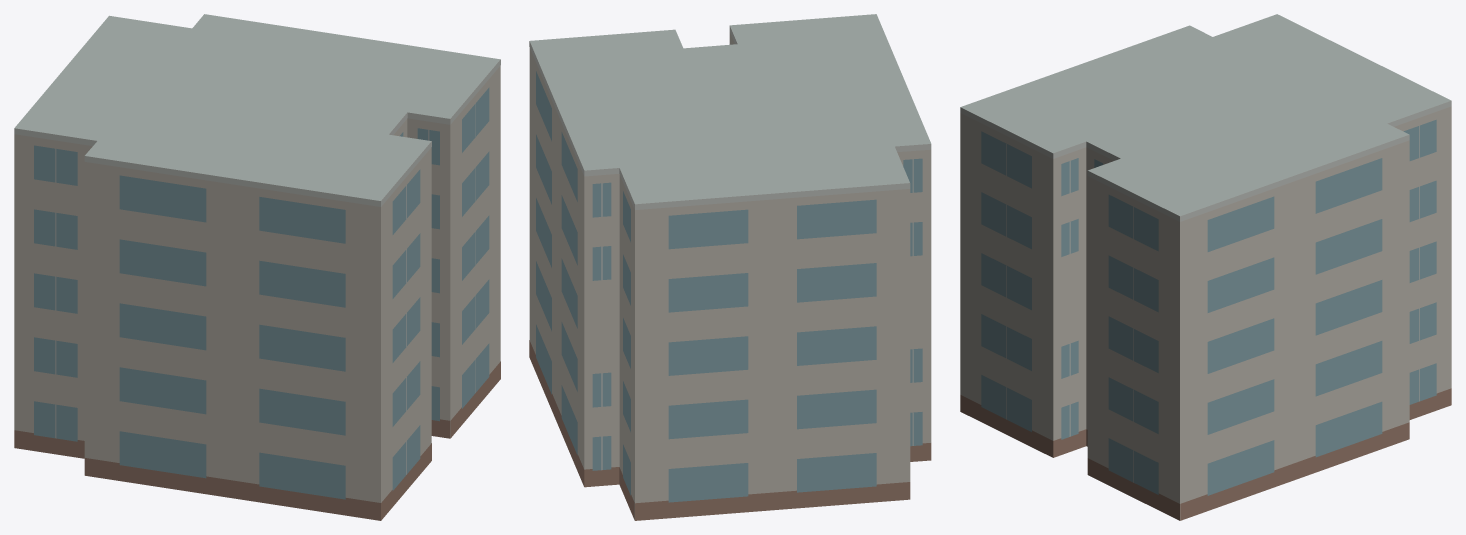
Rendered from survey-upis-32715262.glb.
3 renders of one model, left to right at view 1: azimuth 30°, elevation 25°; view 2: azimuth 150°, elevation 25°; view 3: azimuth 270°, elevation 25°, orthographic. The views are drawn at different scales.
Visible parts, largest first — view 1: survey-upis-32715262.tmp; view 2: survey-upis-32715262.tmp; view 3: survey-upis-32715262.tmp.
Boxes of the visible parts, box(x1,y1,x2,y2) form: survey-upis-32715262.tmp: box(14, 14, 500, 520); survey-upis-32715262.tmp: box(529, 14, 931, 520); survey-upis-32715262.tmp: box(960, 14, 1451, 520).
Size of the model in its own units: 18.82 by 13.2 by 19.31.
